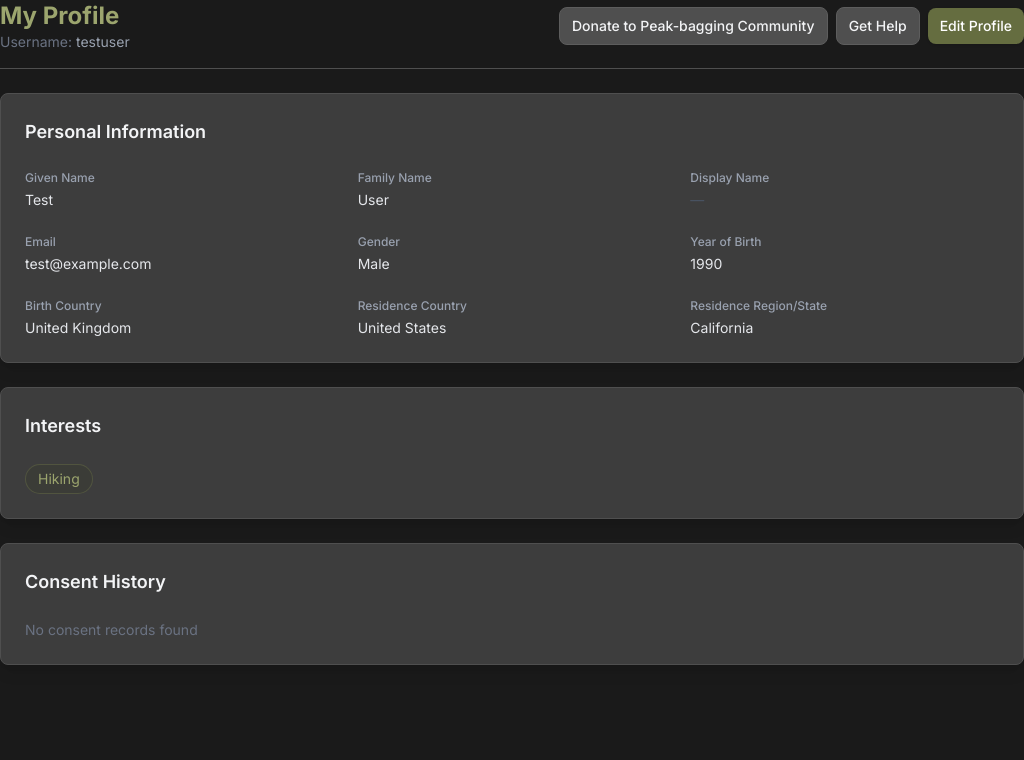
Test: UserOwnProfile › displays email as read-only with HoF Clerk contact info
This screenshot has width=1024, height=760.
What coordinates should you click on to do the following:
click the button "Edit Profile"
I would click on:
 (976, 26)
Its box is [928, 8, 1023, 44].
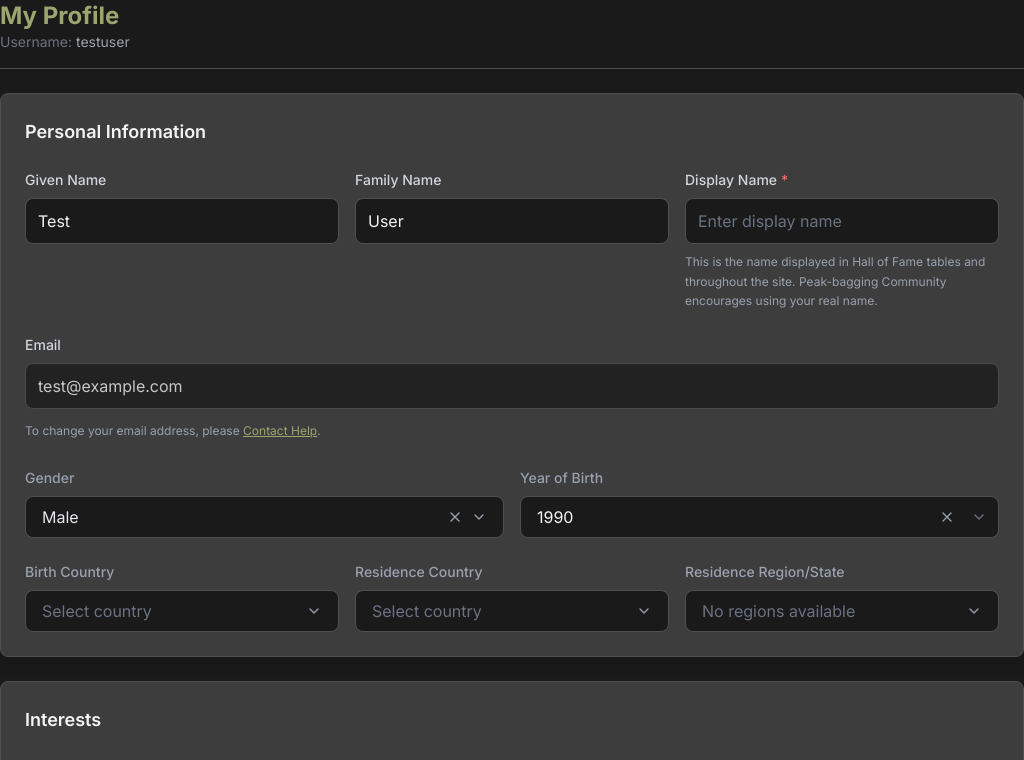
Expected: the field with placeholder "your.email@example.com" is disabled, [25, 362, 999, 408]
Expected: the text "To change your email address, please Contact Help ." is shown, [25, 422, 321, 438]
Expected: the link "Contact Help" is shown, [243, 422, 317, 438]
